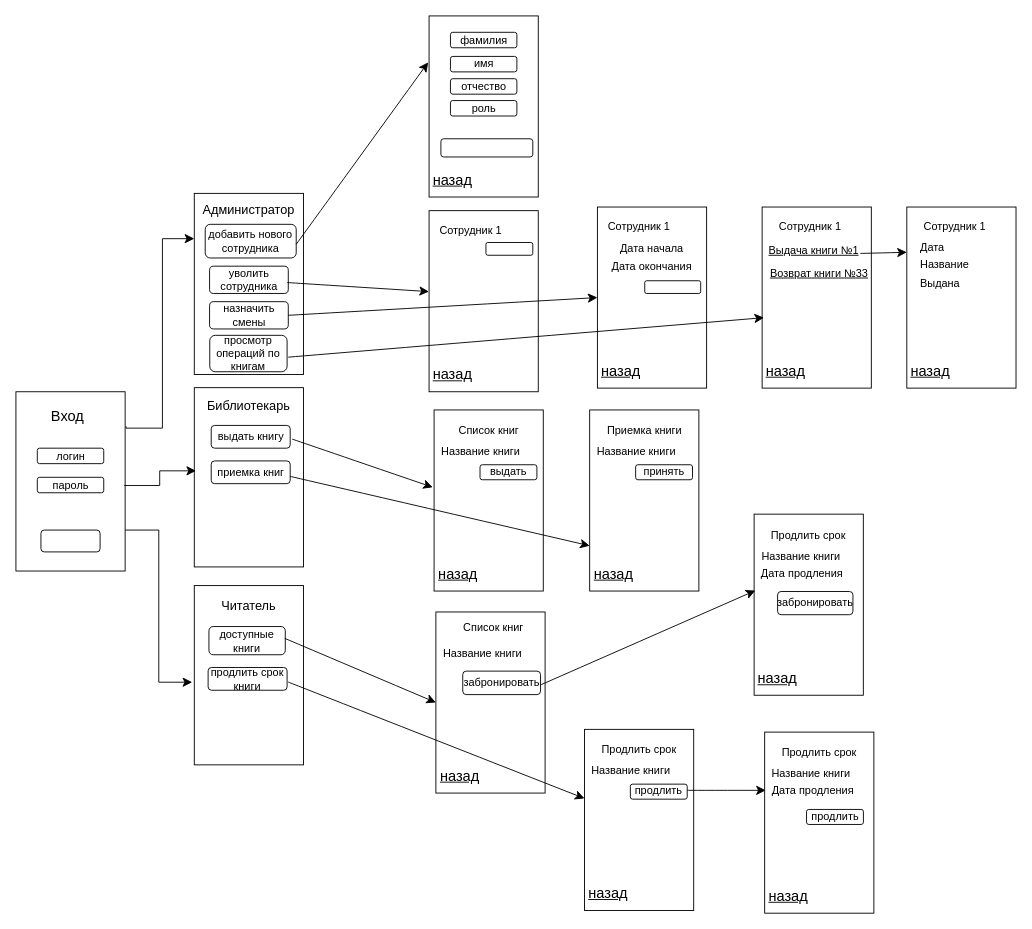
Image size: 1032x929. Some labels were removed from this diagram. The shapes that lost their labels are listed below. From the top down, each one's box as (x1, y1, x2, y2) in pixels, then its label:
(440, 138, 533, 157): Зарегистрировать
(485, 242, 533, 255): уволить
(644, 280, 701, 293): назначить
(40, 529, 100, 552): Войти
